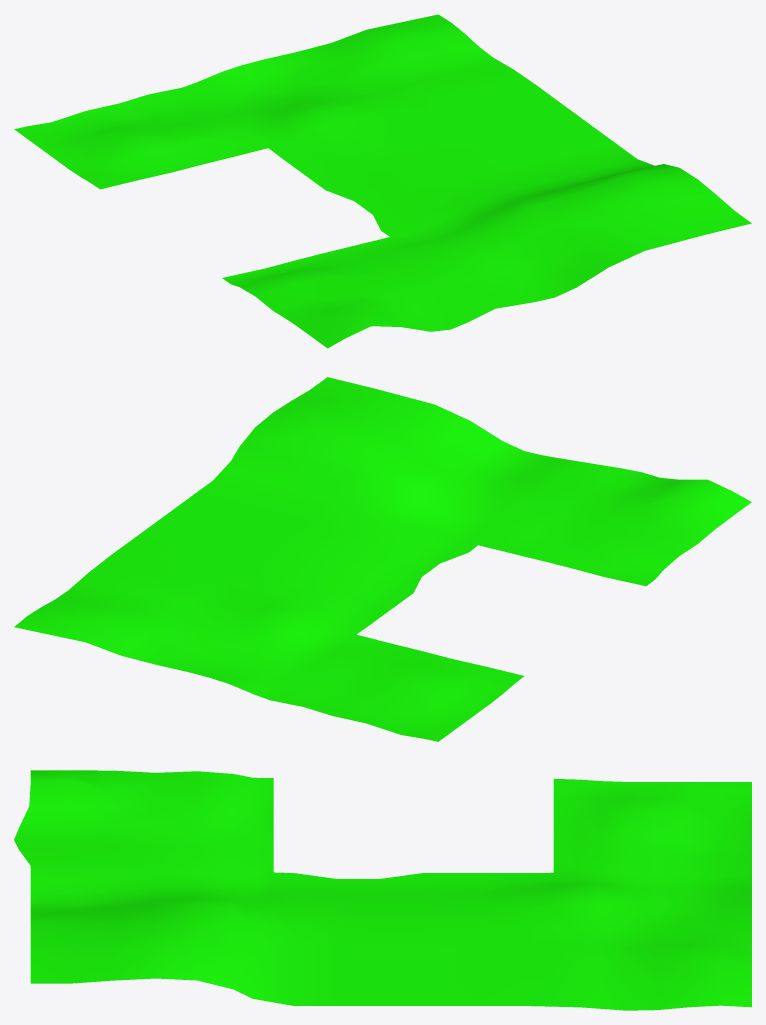
File: Landscape.fbx
The picture shows the model from 3 angles, top to bottom: view 1: azimuth 30°, elevation 25°; view 2: azimuth 150°, elevation 25°; view 3: azimuth 270°, elevation 25°; orthographic projection. The views are drawn at different scales.
Parts seen in each view (by area): view 1: Landscape; view 2: Landscape; view 3: Landscape.
Boxes of the visible parts, x1,y1,x2,y2 form: Landscape: (14, 14, 751, 348); Landscape: (14, 377, 751, 741); Landscape: (14, 770, 751, 1010).
Size of the model in its own units: 2833 by 291 by 3710.
